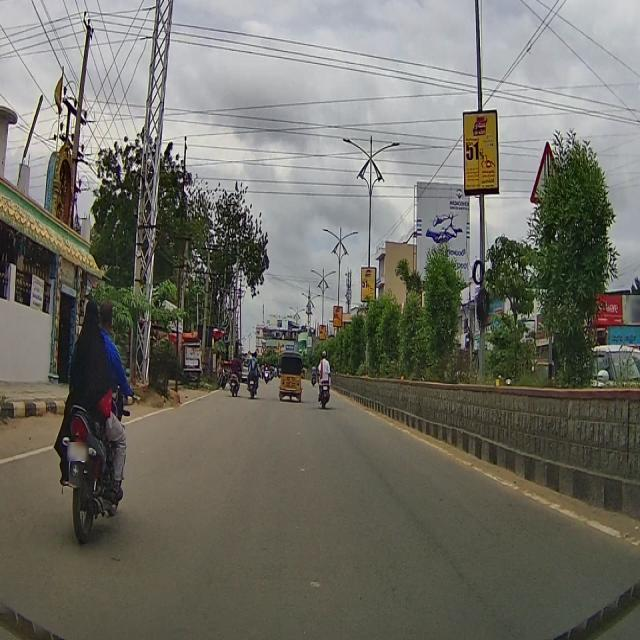gap-in-median: (535, 141, 562, 200)
